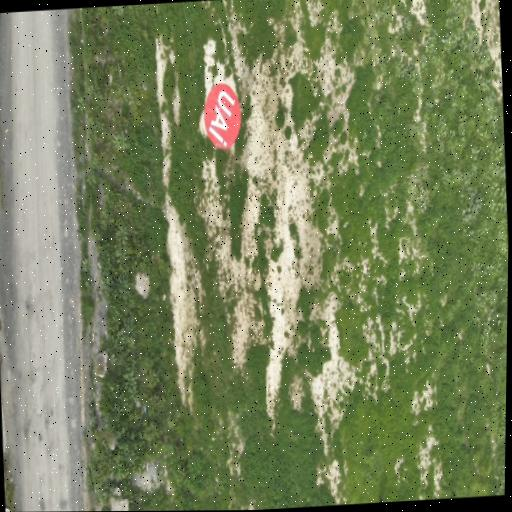uai: (204, 84, 241, 149)
